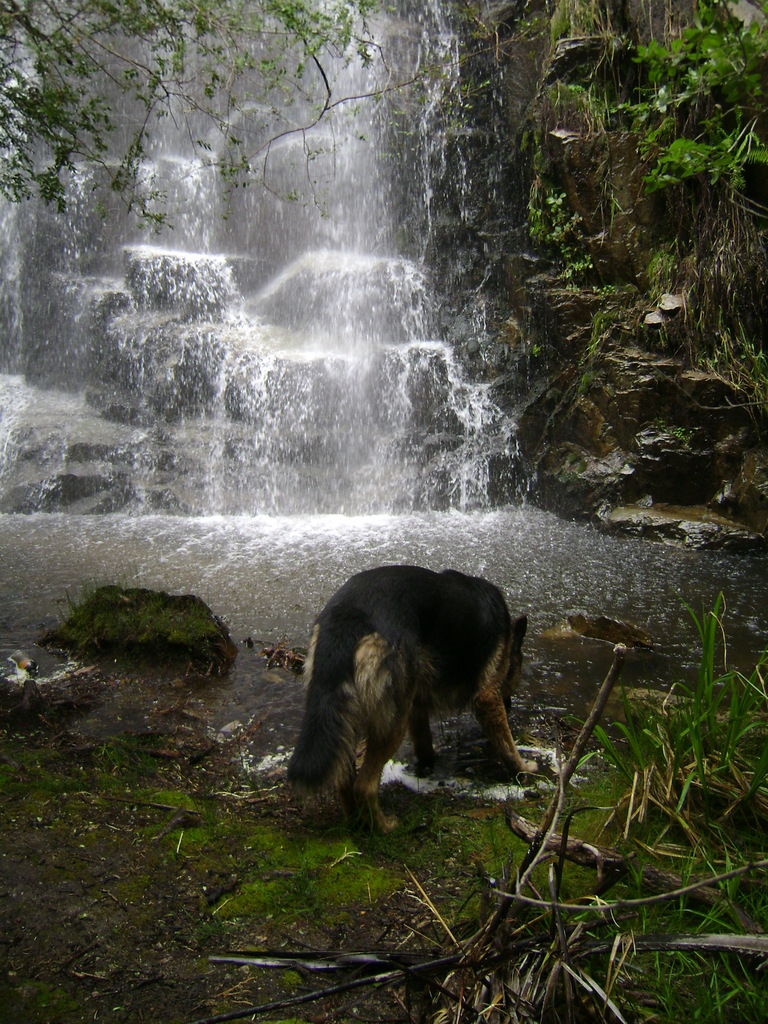Tree: (0, 0, 388, 233)
